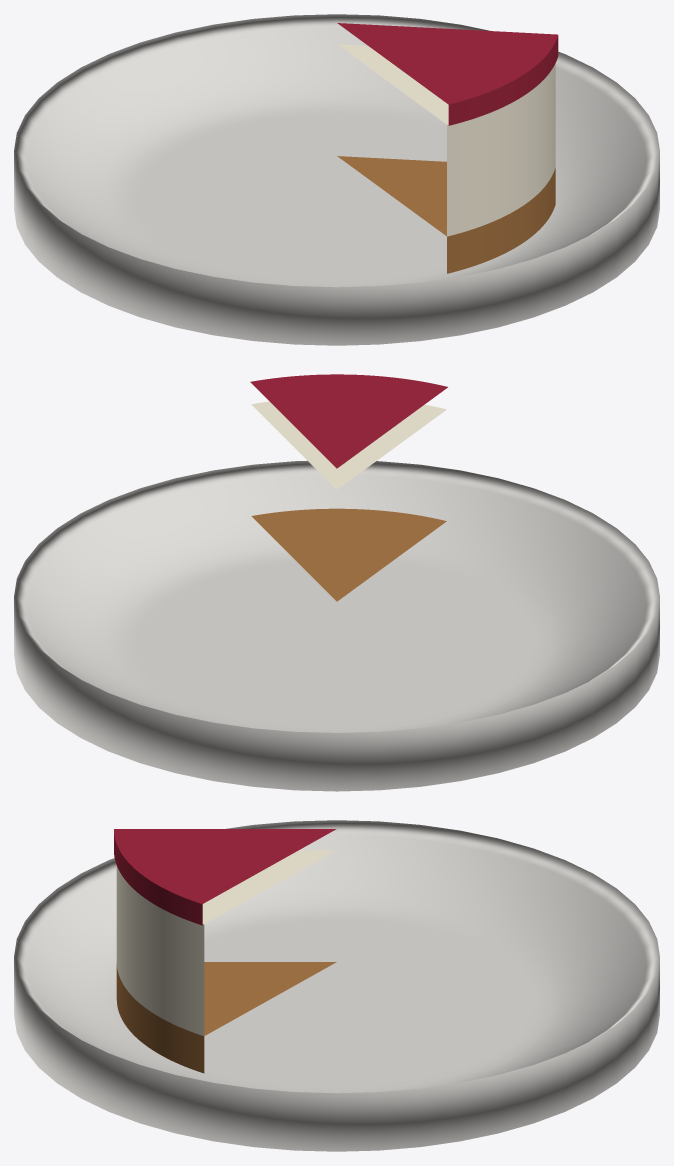
File: fatia-card.glb
3 renders of one model, top to bottom at view 1: azimuth 30°, elevation 25°; view 2: azimuth 150°, elevation 25°; view 3: azimuth 270°, elevation 25°, orthographic.
Size of the model in its own units: 0.22 by 0.07 by 0.22.
